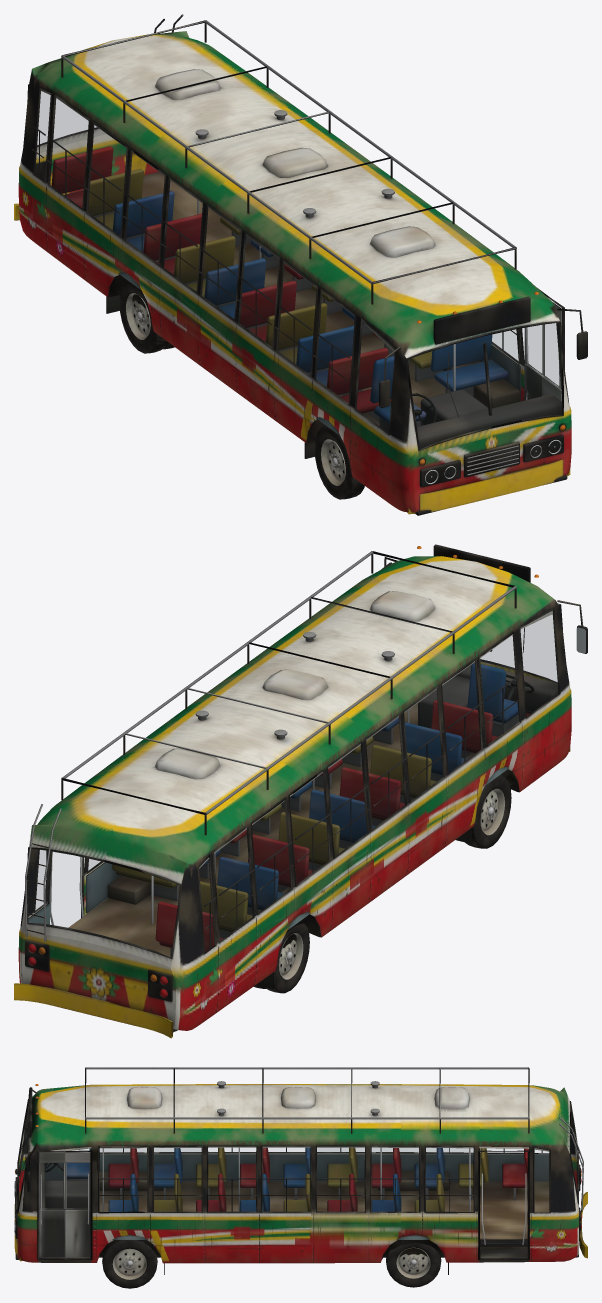
File: bus_city.glb
The picture shows the model from 3 angles, top to bottom: view 1: azimuth 30°, elevation 25°; view 2: azimuth 150°, elevation 25°; view 3: azimuth 270°, elevation 25°; orthographic projection. The views are drawn at different scales.
Parts seen in each view (by area): view 1: body, wheel_FR, wheel_RR, glass, door_P; view 2: body, glass, wheel_FR, wheel_RR; view 3: body, wheel_FL, wheel_RL, door_P, door_P2, glass.
Boxes of the visible parts, x1=… form: body: x1=14, y1=14, x2=587, y2=515; wheel_FR: x1=314, y1=425, x2=364, y2=499; wheel_RR: x1=119, y1=284, x2=174, y2=353; glass: x1=37, y1=91, x2=518, y2=361; door_P: x1=524, y1=324, x2=543, y2=400; body: x1=14, y1=544, x2=587, y2=1038; glass: x1=35, y1=614, x2=557, y2=910; wheel_FR: x1=465, y1=774, x2=511, y2=848; wheel_RR: x1=253, y1=923, x2=309, y2=993; body: x1=14, y1=1067, x2=587, y2=1274; wheel_FL: x1=102, y1=1240, x2=157, y2=1288; wheel_RL: x1=386, y1=1243, x2=441, y2=1287; door_P: x1=65, y1=1151, x2=90, y2=1257; door_P2: x1=39, y1=1151, x2=64, y2=1257; glass: x1=14, y1=1147, x2=473, y2=1230.
Size of the model in its own units: 2.91 by 3.16 by 9.71.
2 materials, 1 textured.
